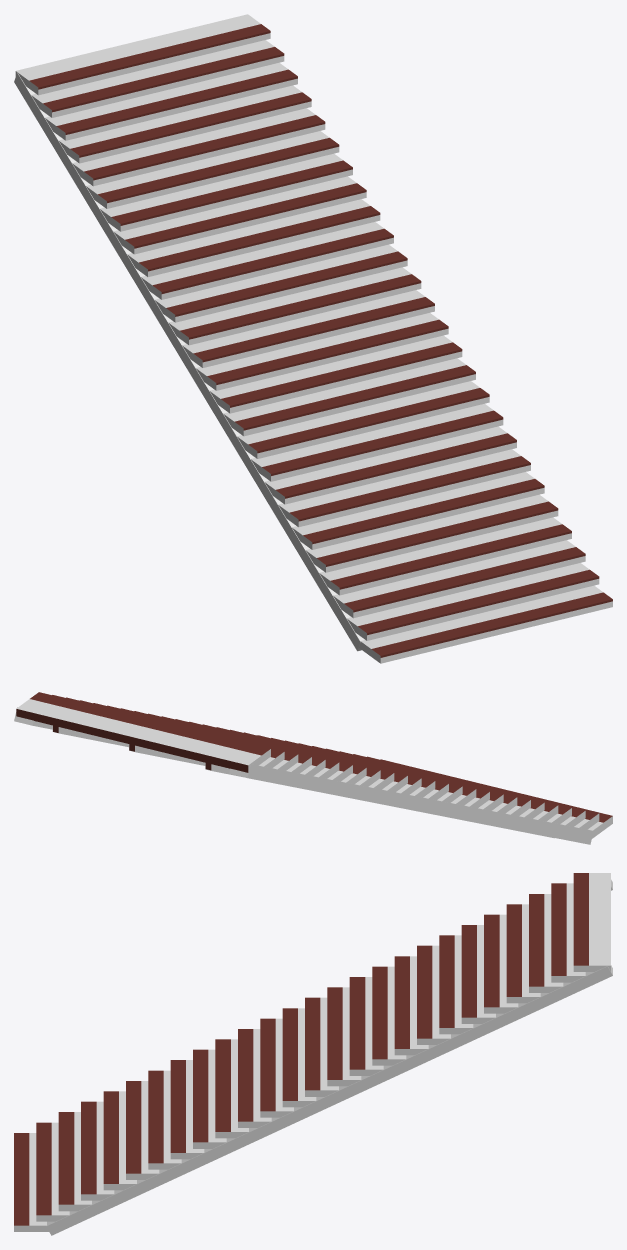
File: Stairs Office.fbx
3 views of the same model, one above another, from view 1: azimuth 30°, elevation 25°; view 2: azimuth 150°, elevation 25°; view 3: azimuth 270°, elevation 25° (orthographic). The views are drawn at different scales.
Parts seen in each view (by area): view 1: Cube, Cube.001, Cube.006; view 2: Cube.001, Cube, Cube.006; view 3: Cube.001, Cube, Cube.006.
Boxes of the visible parts, <box> form: Cube: <box>15,14,612,663</box>; Cube.001: <box>29,24,612,657</box>; Cube.006: <box>14,16,364,651</box>; Cube.001: <box>16,692,612,822</box>; Cube: <box>16,699,612,838</box>; Cube.006: <box>14,707,593,844</box>; Cube.001: <box>14,873,588,1225</box>; Cube: <box>14,873,610,1231</box>; Cube.006: <box>46,879,612,1235</box>.
Bounding box in the file's own units: 300 × 409 × 814.
